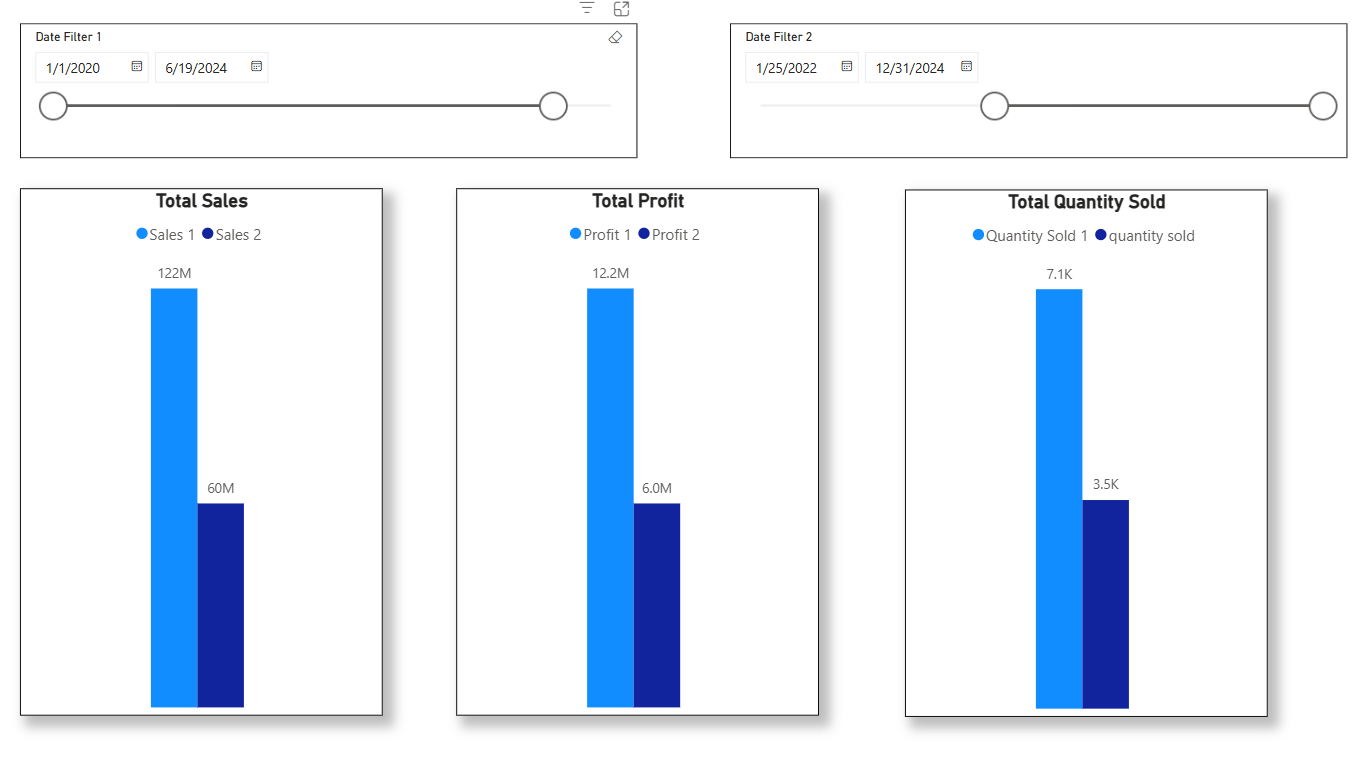

This screenshot's page, from the dashboard's own definition file:
{"tool":"powerbi","page":{"name":"comparison b/w dates","canvas":[1280,720],"ordinal":2},"visuals":[{"type":"slicer","fields":{"Values":["Date Table 1.Date"]},"box":[39.5,59.3,548.8,119.8],"z":0},{"type":"slicer","fields":{"Values":["Date Table 2.Date"]},"box":[670.9,59.3,548.8,119.8],"z":1000},{"type":"clusteredColumnChart","title":"Total Sales ","fields":{"Y":["Sum(facts table.Net Sales)","Date Table 1.sum of net sales"]},"box":[39.5,205.8,322.1,468.6],"z":2000},{"type":"clusteredColumnChart","title":"Total Profit","fields":{"Y":["Sum(facts table.Profit)","Measure Table.total profit"]},"box":[427.9,205.8,322.1,468.6],"z":3000},{"type":"clusteredColumnChart","title":"Total Quantity Sold","fields":{"Y":["Sum(facts table.Units Sold)","Measure Table.quantity sold"]},"box":[826.7,207,322.1,468.6],"z":4000}]}

Visuals, with their boxes in screenshot pixels (x1, y1, x2, y2), scaled from the page's 1280x720 canvas onto the 1367x767 screenshot:
slicer - Date Table 1.Date: Rect(42, 63, 628, 191)
slicer - Date Table 2.Date: Rect(717, 63, 1303, 191)
"Total Sales " clusteredColumnChart: Rect(42, 219, 386, 718)
"Total Profit" clusteredColumnChart: Rect(457, 219, 801, 718)
"Total Quantity Sold" clusteredColumnChart: Rect(883, 221, 1227, 720)
